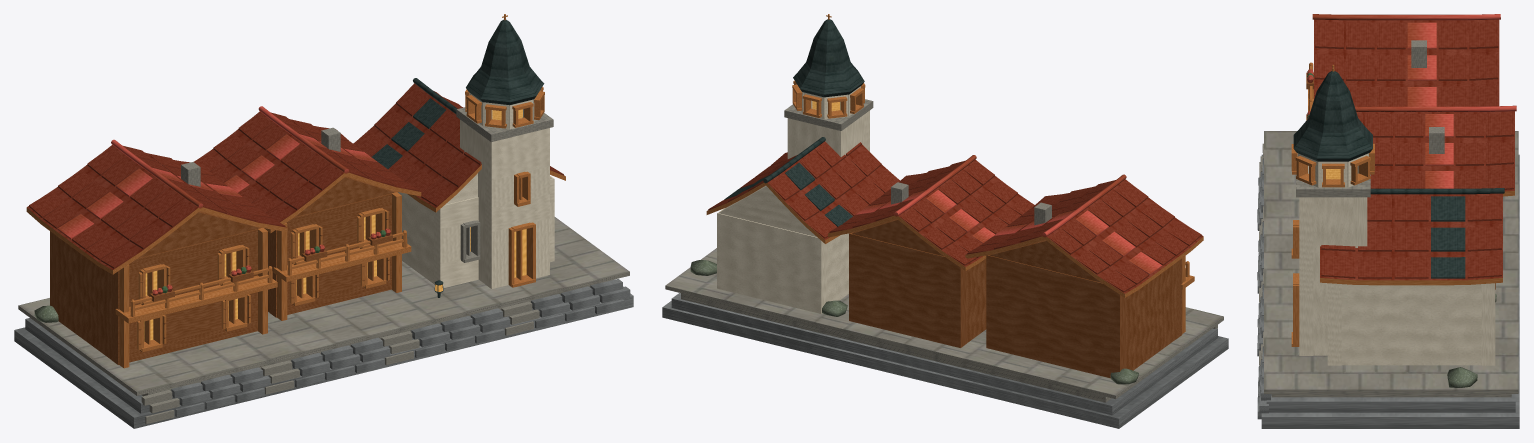
File: alps_chalet_village_mid.glb
3 renders of one model, left to right at view 1: azimuth 30°, elevation 25°; view 2: azimuth 150°, elevation 25°; view 3: azimuth 270°, elevation 25°, orthographic. The views are drawn at different scales.
Parts seen in each view (by area): view 1: alps_chalet_village_mid; view 2: alps_chalet_village_mid; view 3: alps_chalet_village_mid.
Boxes of the visible parts, x1,y1,x2,y2 form: alps_chalet_village_mid: (14, 14, 633, 428); alps_chalet_village_mid: (662, 14, 1228, 428); alps_chalet_village_mid: (1257, 14, 1519, 428).
Size of the model in its own units: 26 by 14.5 by 11.
Materials: 2 (2 with a texture image).
